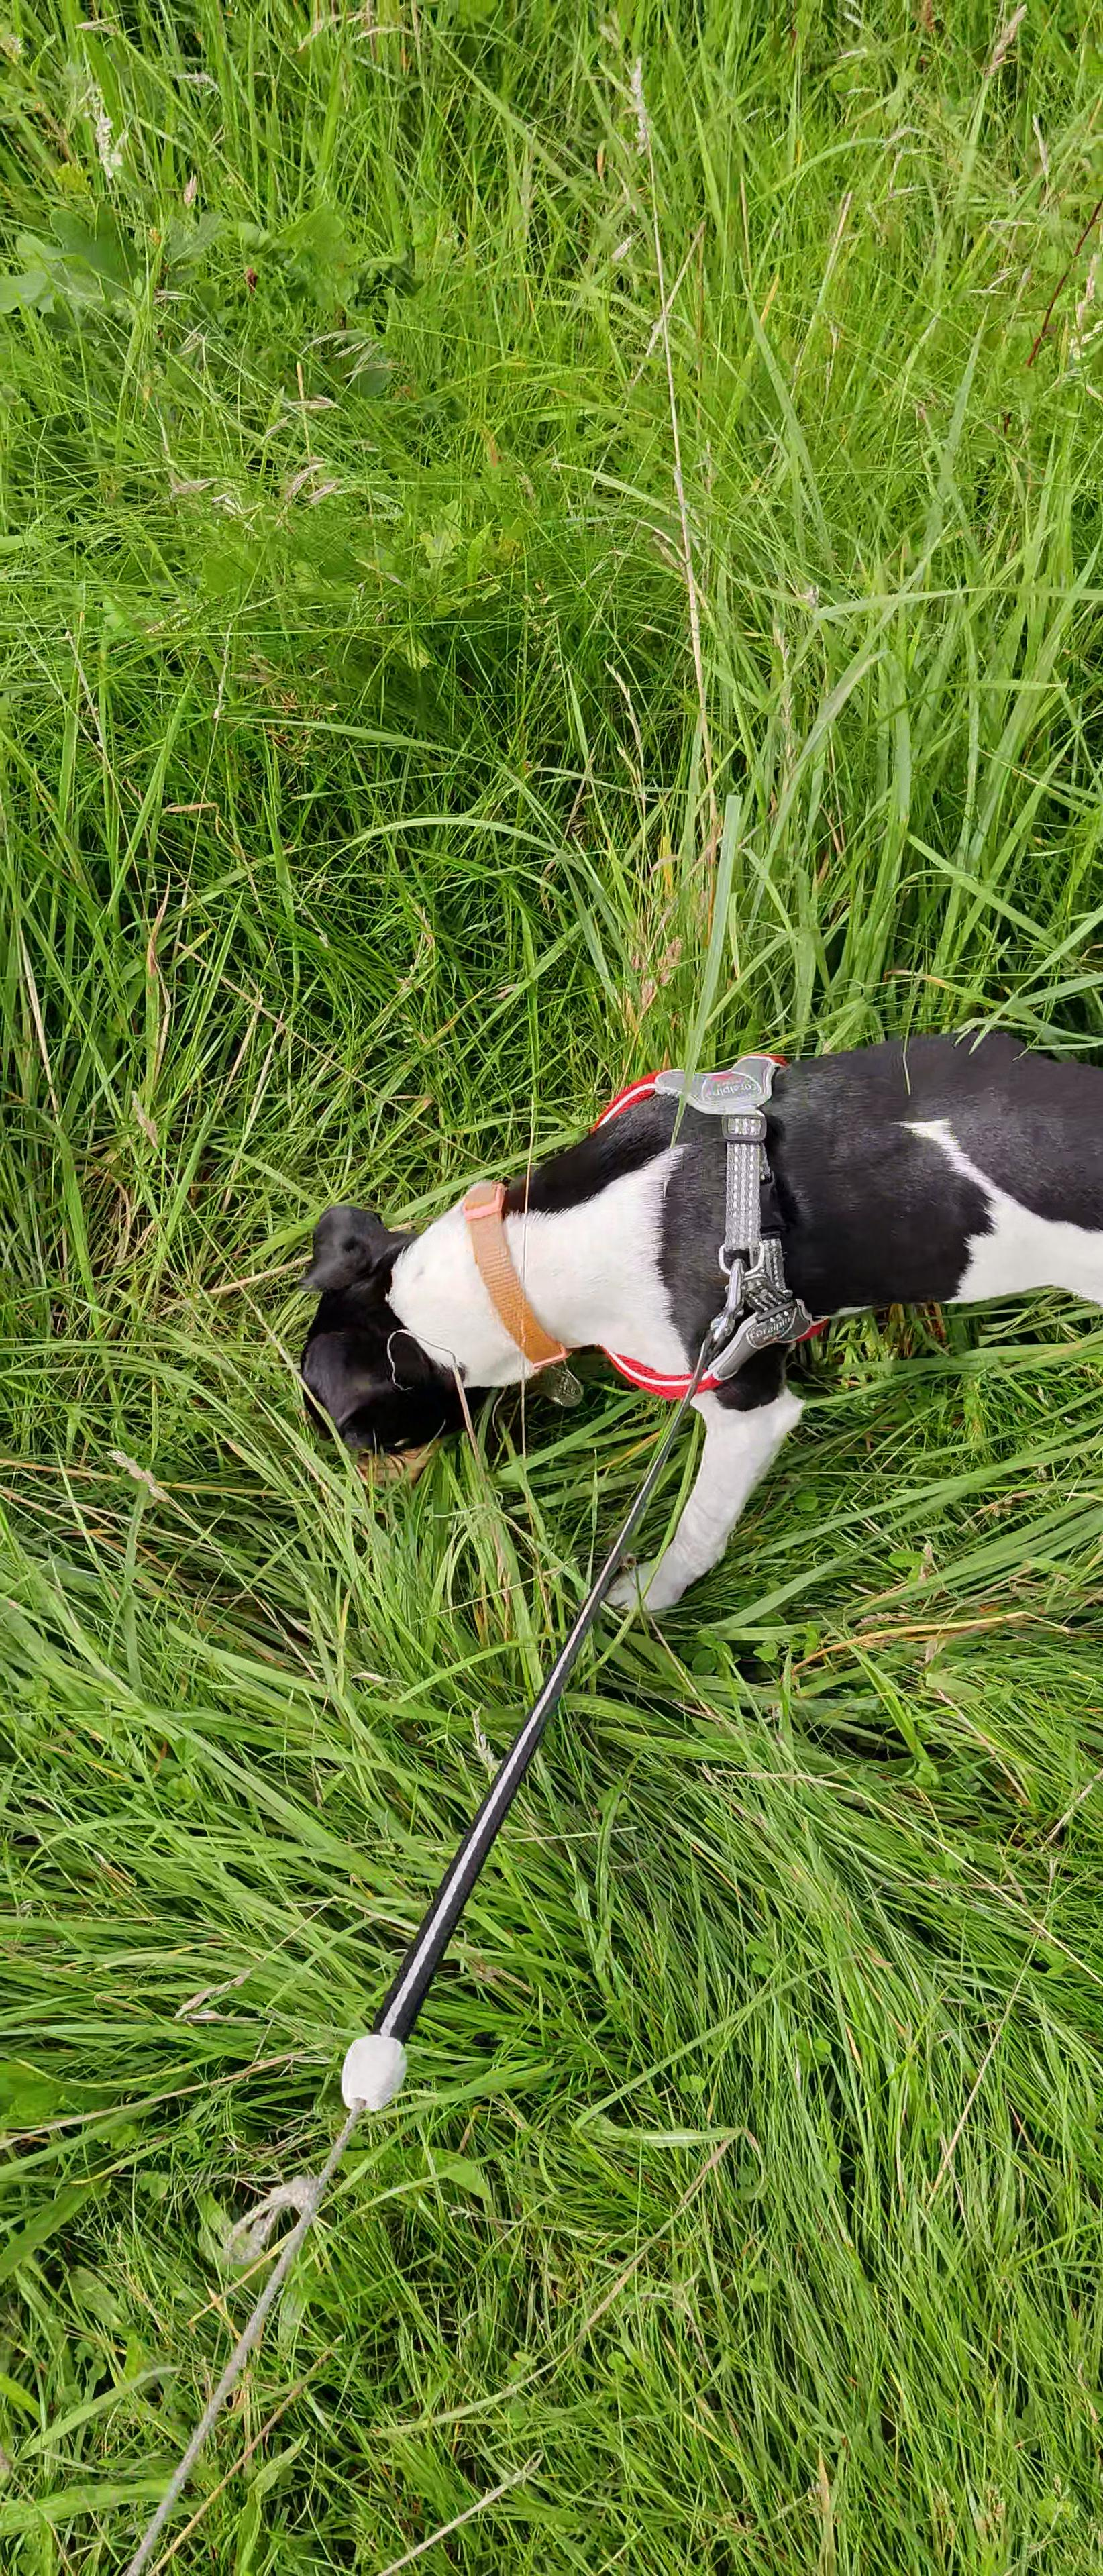Dog: (245, 1000, 1103, 1617)
